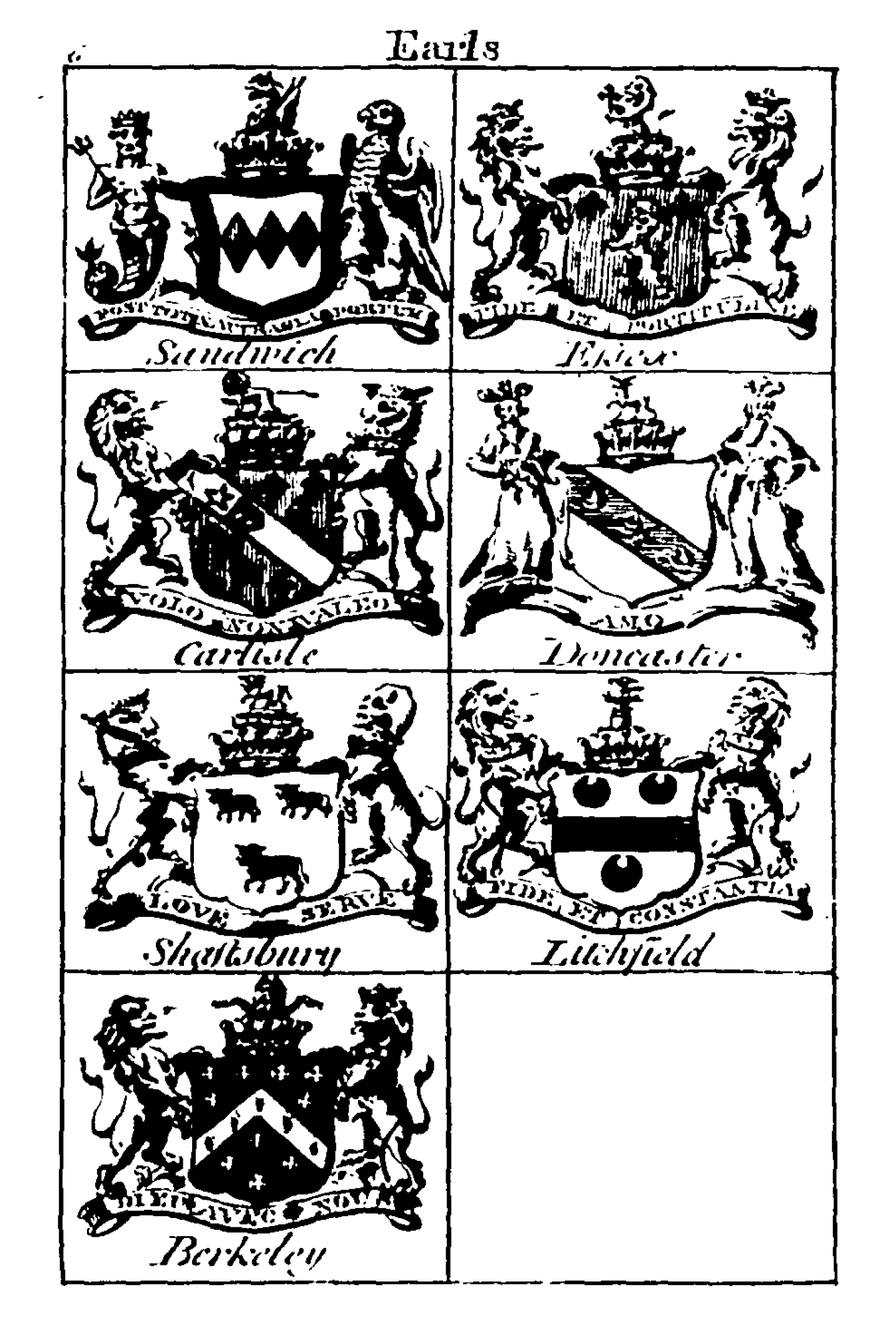coat_of_arms: (452, 673, 829, 969), (67, 671, 446, 965), (452, 371, 827, 668), (73, 980, 451, 1273), (77, 69, 446, 364), (71, 371, 442, 664), (454, 78, 821, 369)
